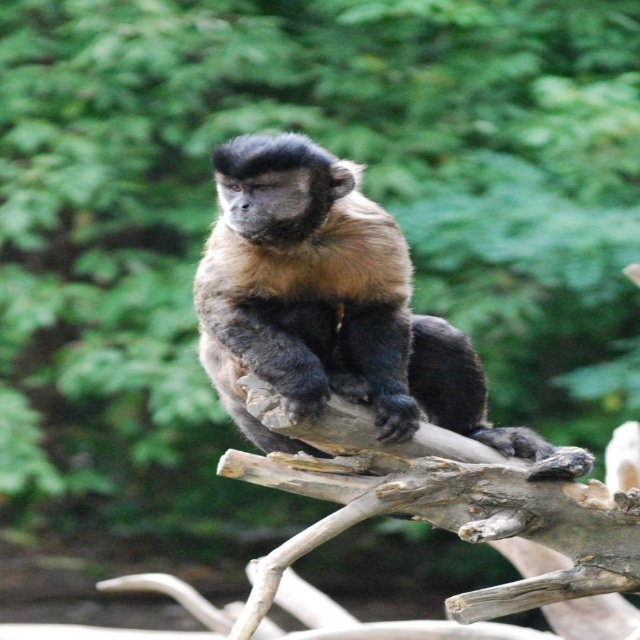Monkey: (183, 129, 599, 482)
